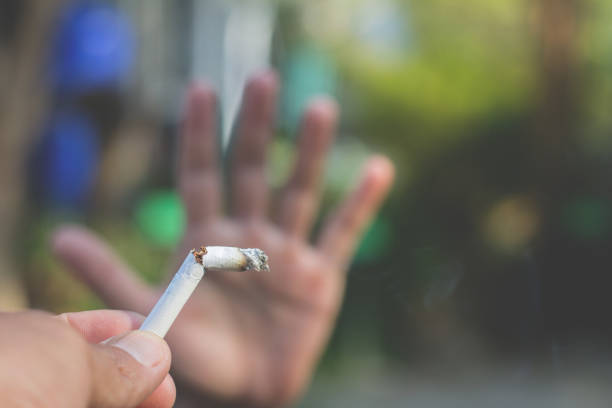cigarette: (136, 243, 269, 340)
